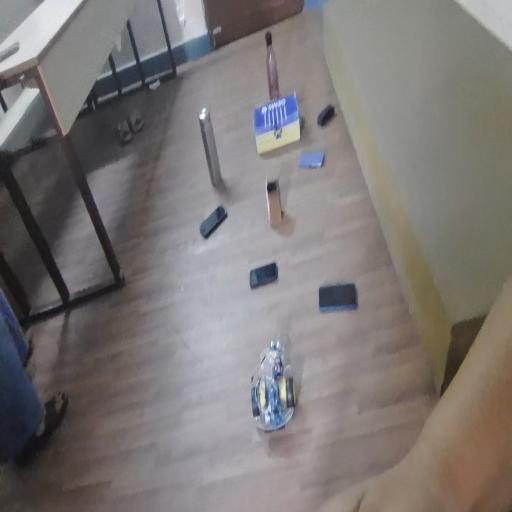Bottle: (258, 31, 286, 90)
car: (246, 343, 306, 447)
